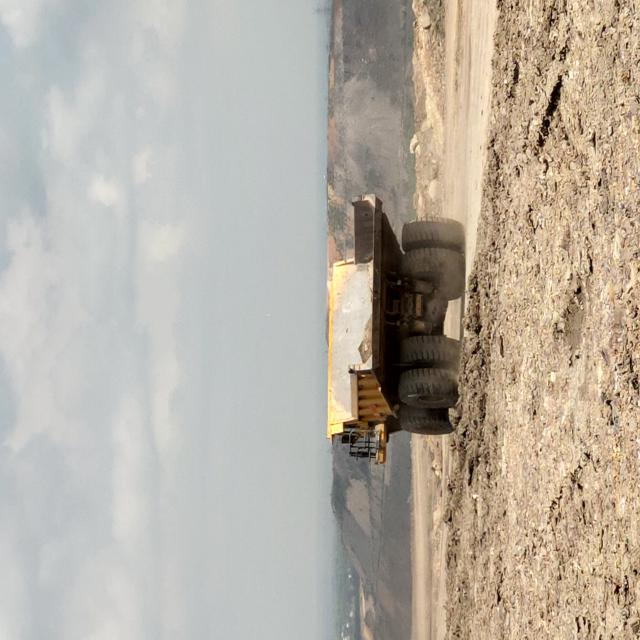dump_truck: (132, 438, 335, 623)
